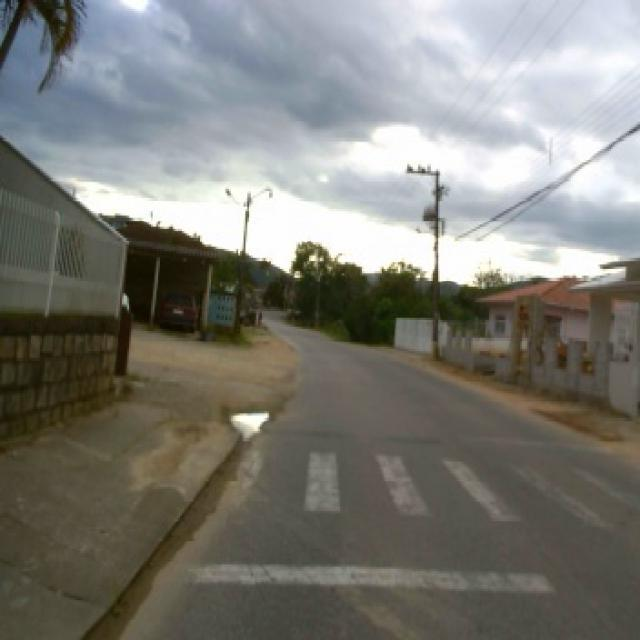Poth-hole: (229, 409, 271, 440)
